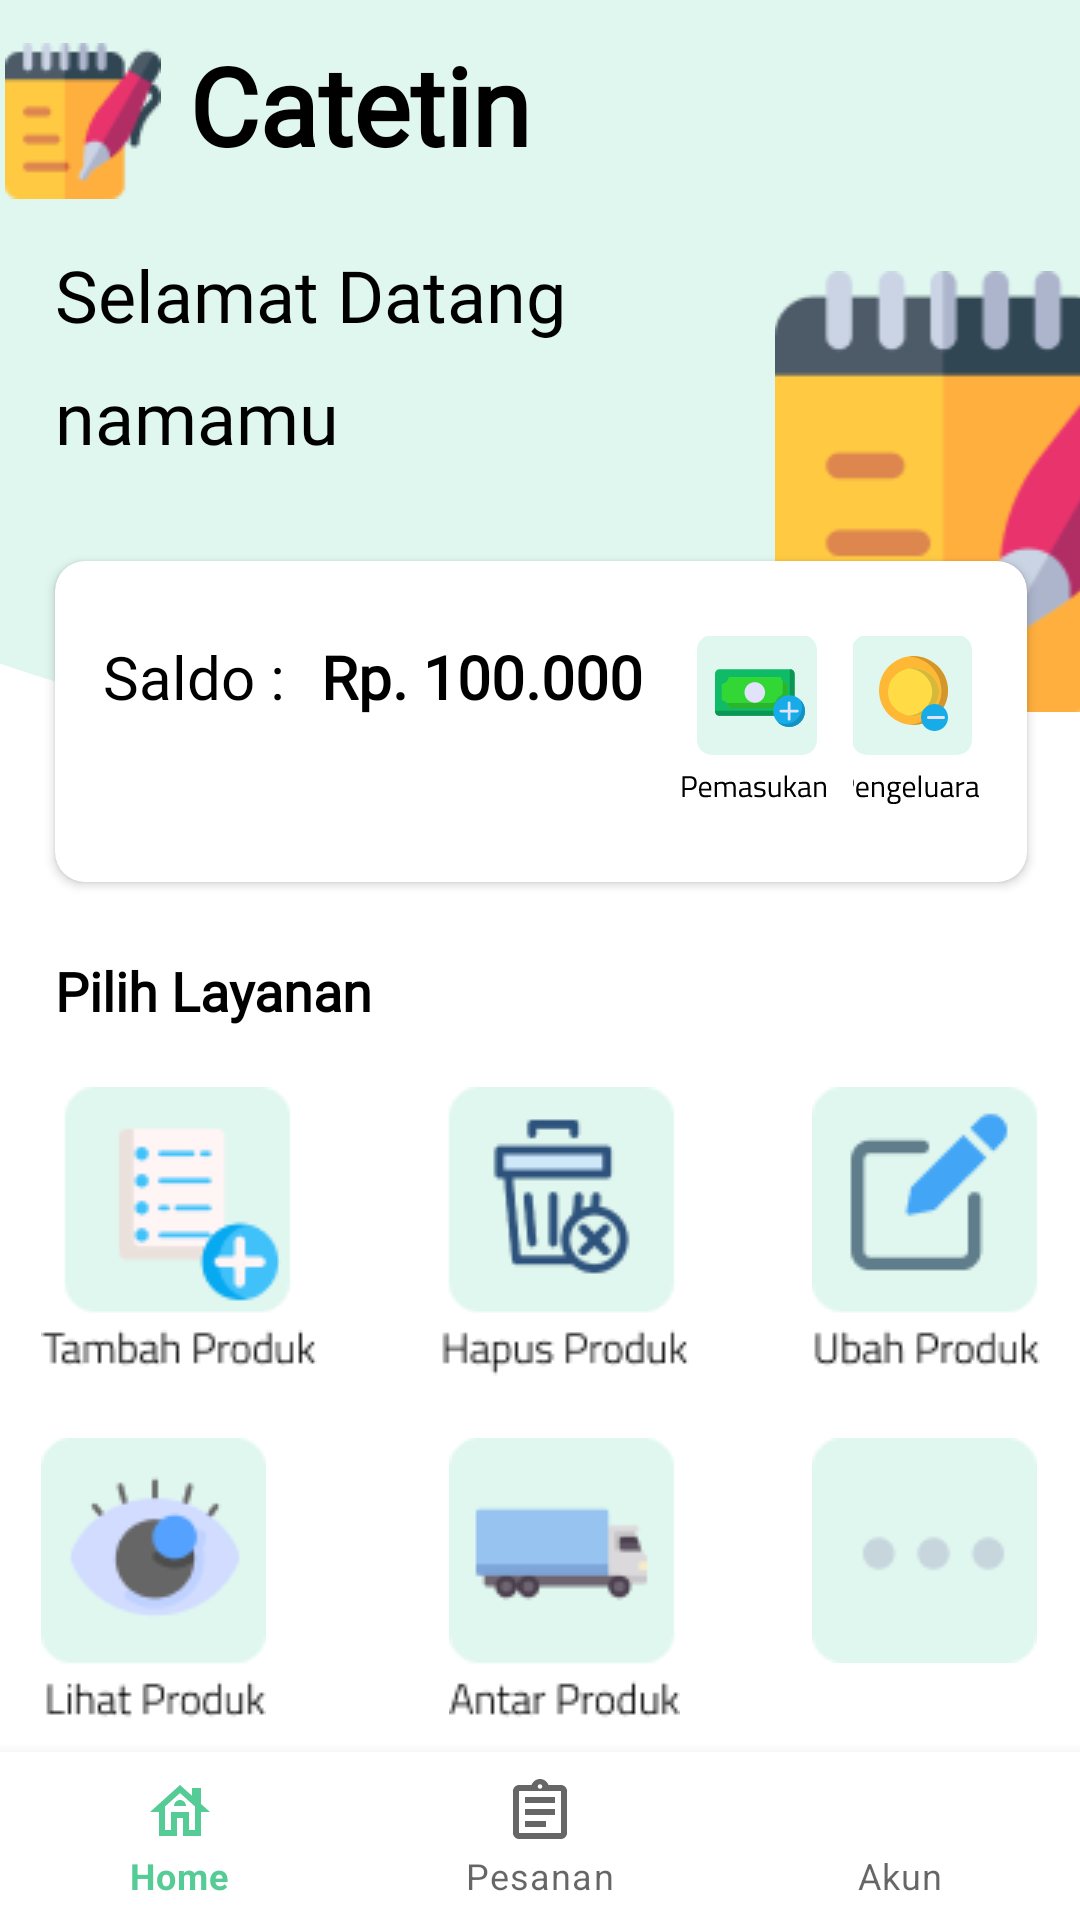

Locate icon controls on the screen. Image size 1080 × 1920, boxes as box(x1, y1, x2, y2).
more: box(812, 1438, 1037, 1663)
